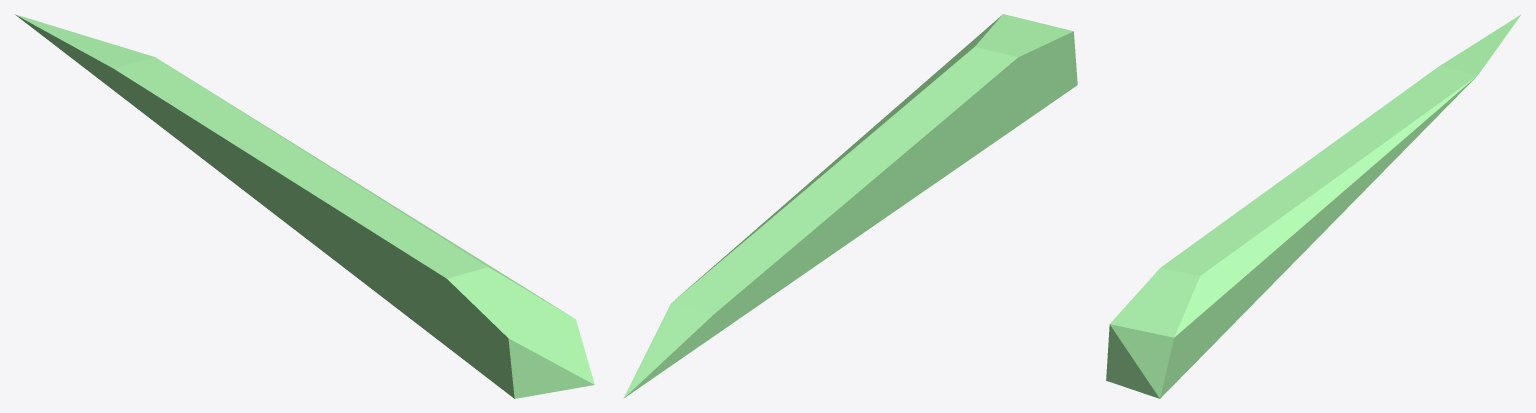
Rendered from dvkr_robot_Lp11_respondable_PSM1_coll_5.dae.
3 renders of one model, left to right at view 1: azimuth 30°, elevation 25°; view 2: azimuth 150°, elevation 25°; view 3: azimuth 330°, elevation 25°, orthographic. The views are drawn at different scales.
Parts seen in each view (by area): view 1: Node_0000023514CD84E0; view 2: Node_0000023514CD84E0; view 3: Node_0000023514CD84E0.
Part boxes in pixels (x1,y1,x2,y2): Node_0000023514CD84E0: (14,14,594,398); Node_0000023514CD84E0: (623,14,1077,398); Node_0000023514CD84E0: (1106,14,1521,398).
Bounding box in the file's own units: 0.0178 × 0.0137 × 0.1592.
